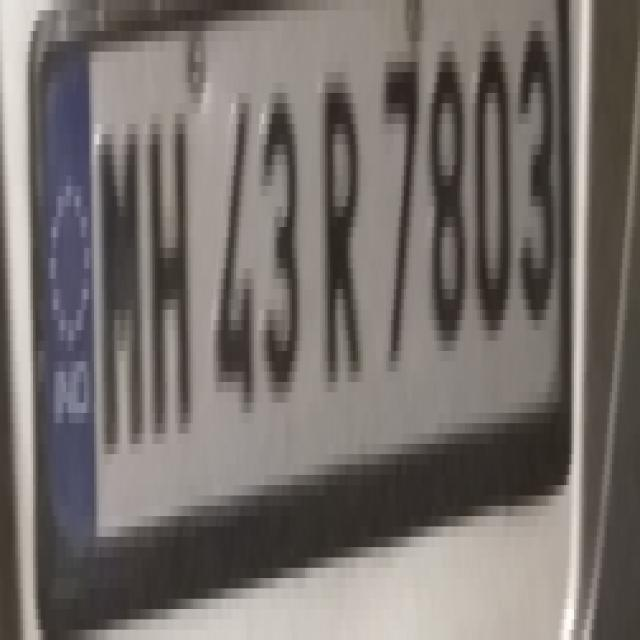0: (474, 32, 512, 350)
3: (254, 91, 304, 407), (518, 13, 564, 333)
4: (212, 88, 260, 428)
7: (375, 47, 423, 390)
8: (428, 37, 471, 346)
H: (142, 112, 198, 444)
M: (92, 119, 148, 469)
R: (316, 65, 369, 418)
